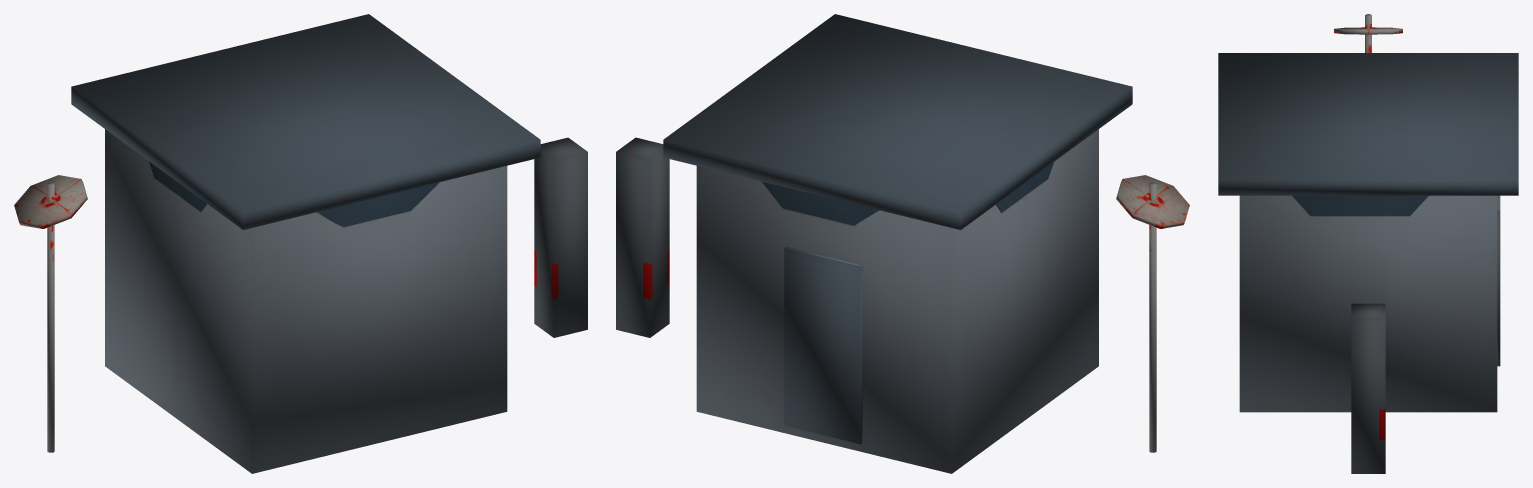
File: yard-guard-shack-body-tripo-original.glb
3 renders of one model, left to right at view 1: azimuth 30°, elevation 25°; view 2: azimuth 150°, elevation 25°; view 3: azimuth 270°, elevation 25°, orthographic. The views are drawn at different scales.
Visible parts, largest first — view 1: Authored_surface_029; view 2: Authored_surface_029; view 3: Authored_surface_029.
Part boxes in pixels (box(x1,y1,x2,y2)): Authored_surface_029: box(14, 14, 587, 473); Authored_surface_029: box(616, 14, 1189, 473); Authored_surface_029: box(1218, 14, 1518, 473).
Bounding box in the file's own units: 1 × 0.4712 × 0.532.
Materials: 1 (1 with a texture image).
